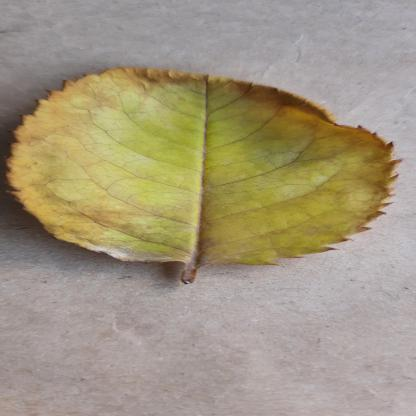black-spot: (14, 67, 404, 266)
